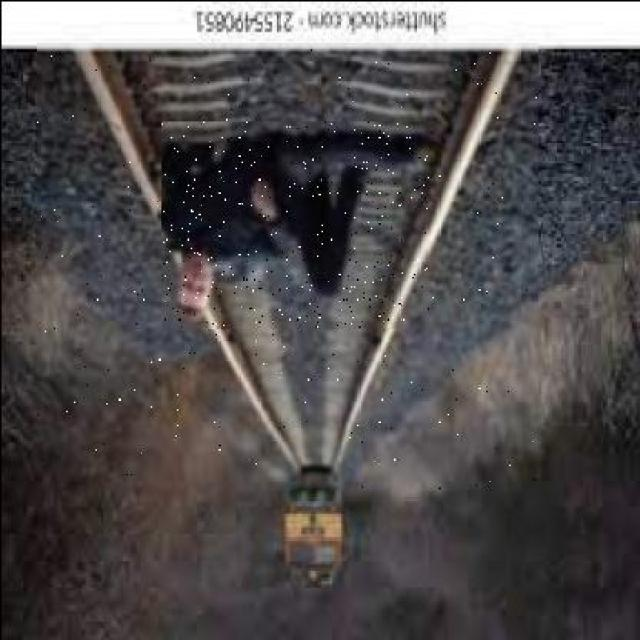danger: (160, 120, 428, 326)
rail: (35, 43, 535, 489)
